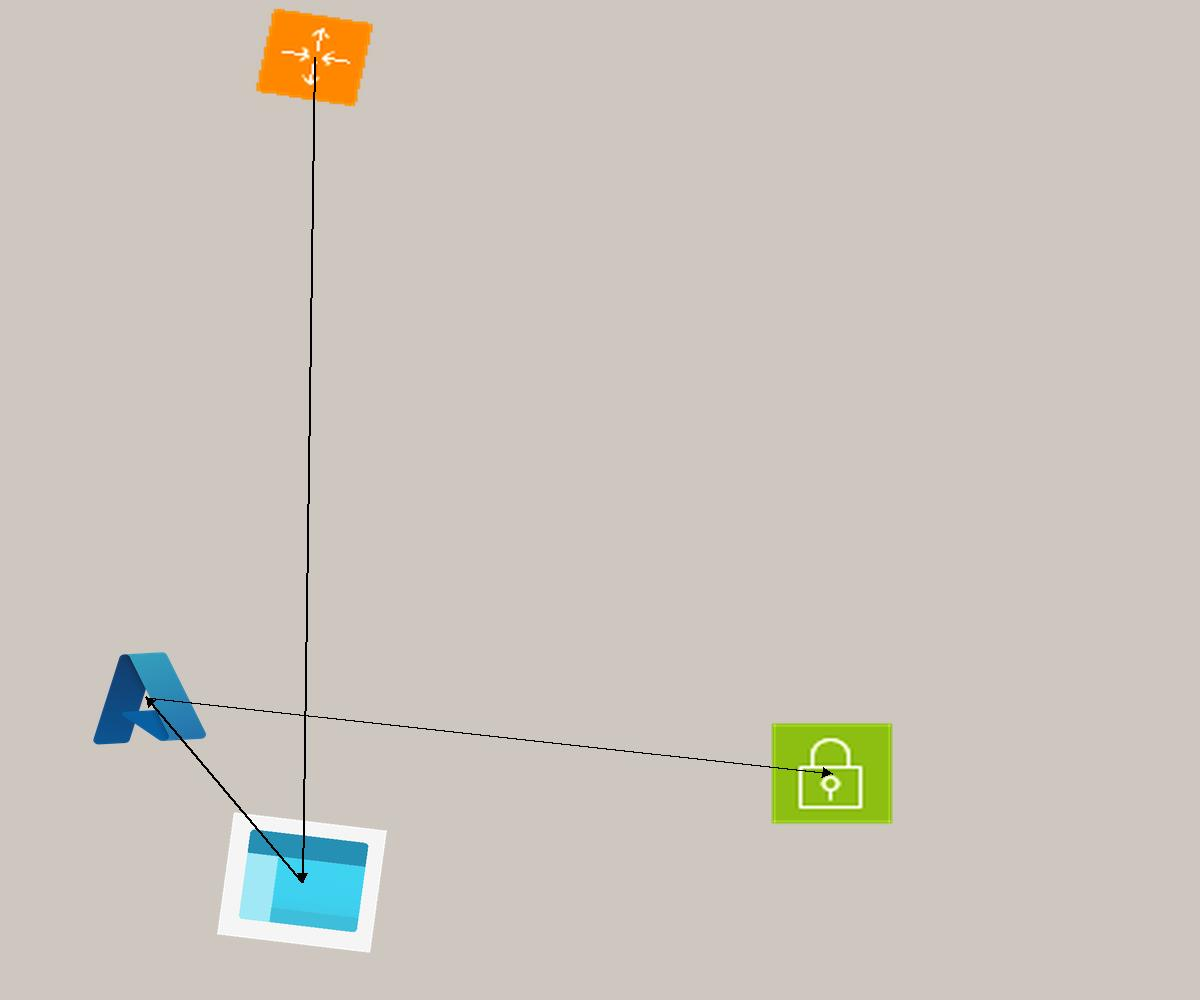AWS-Public-subnet: (769, 721, 895, 826)
AWS-Scaling-group: (254, 7, 375, 108)
Azure_management-portal: (217, 812, 387, 953)
Azure_services: (81, 643, 212, 752)
